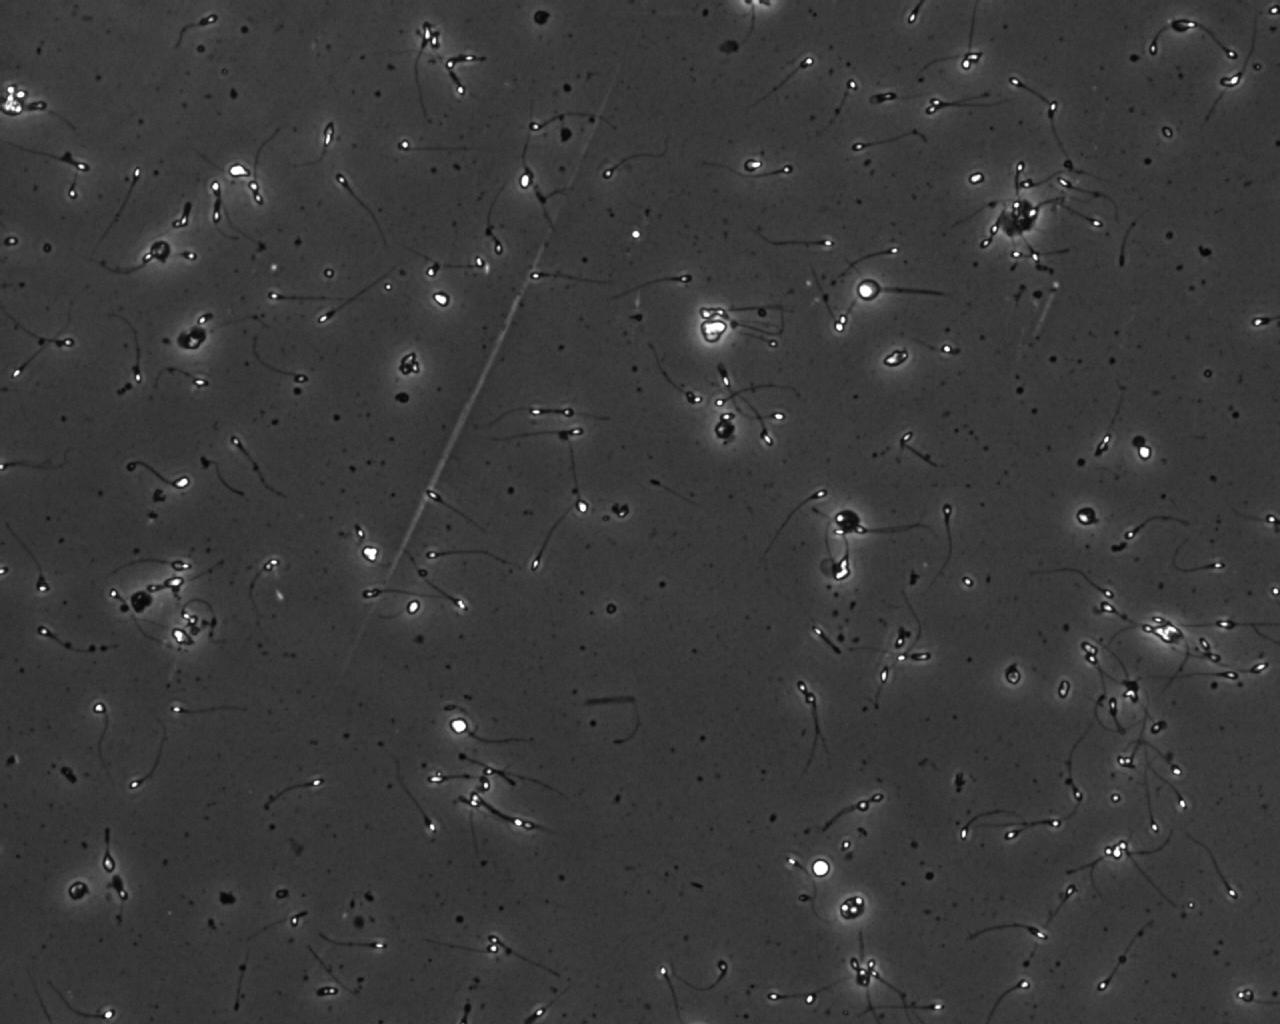cell: (852, 273, 886, 306), (835, 891, 870, 924), (695, 316, 731, 347), (173, 323, 210, 354), (830, 506, 864, 538), (63, 876, 93, 905), (145, 236, 174, 265), (1071, 502, 1101, 530), (709, 416, 739, 443), (807, 854, 834, 881)
